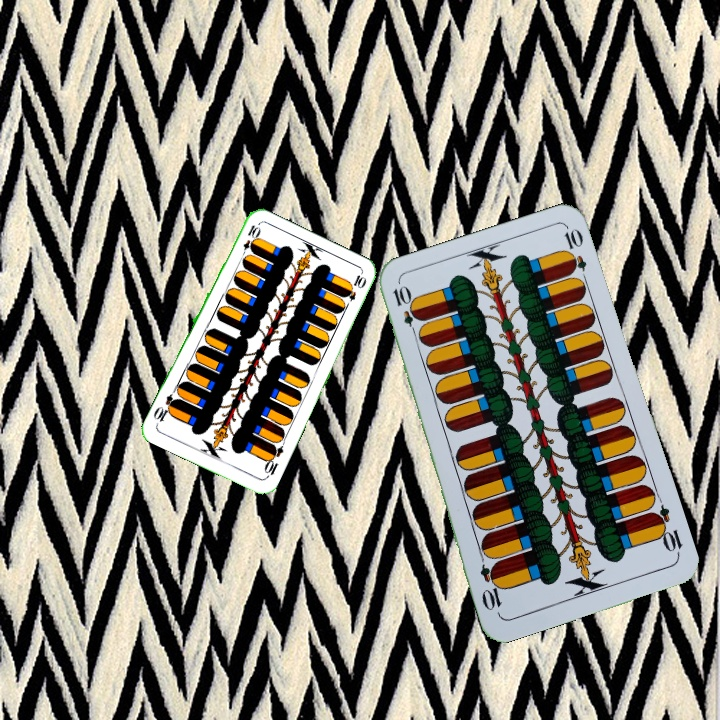E10: (647, 501, 685, 559), (389, 282, 422, 340), (260, 441, 286, 481), (237, 221, 262, 260)
